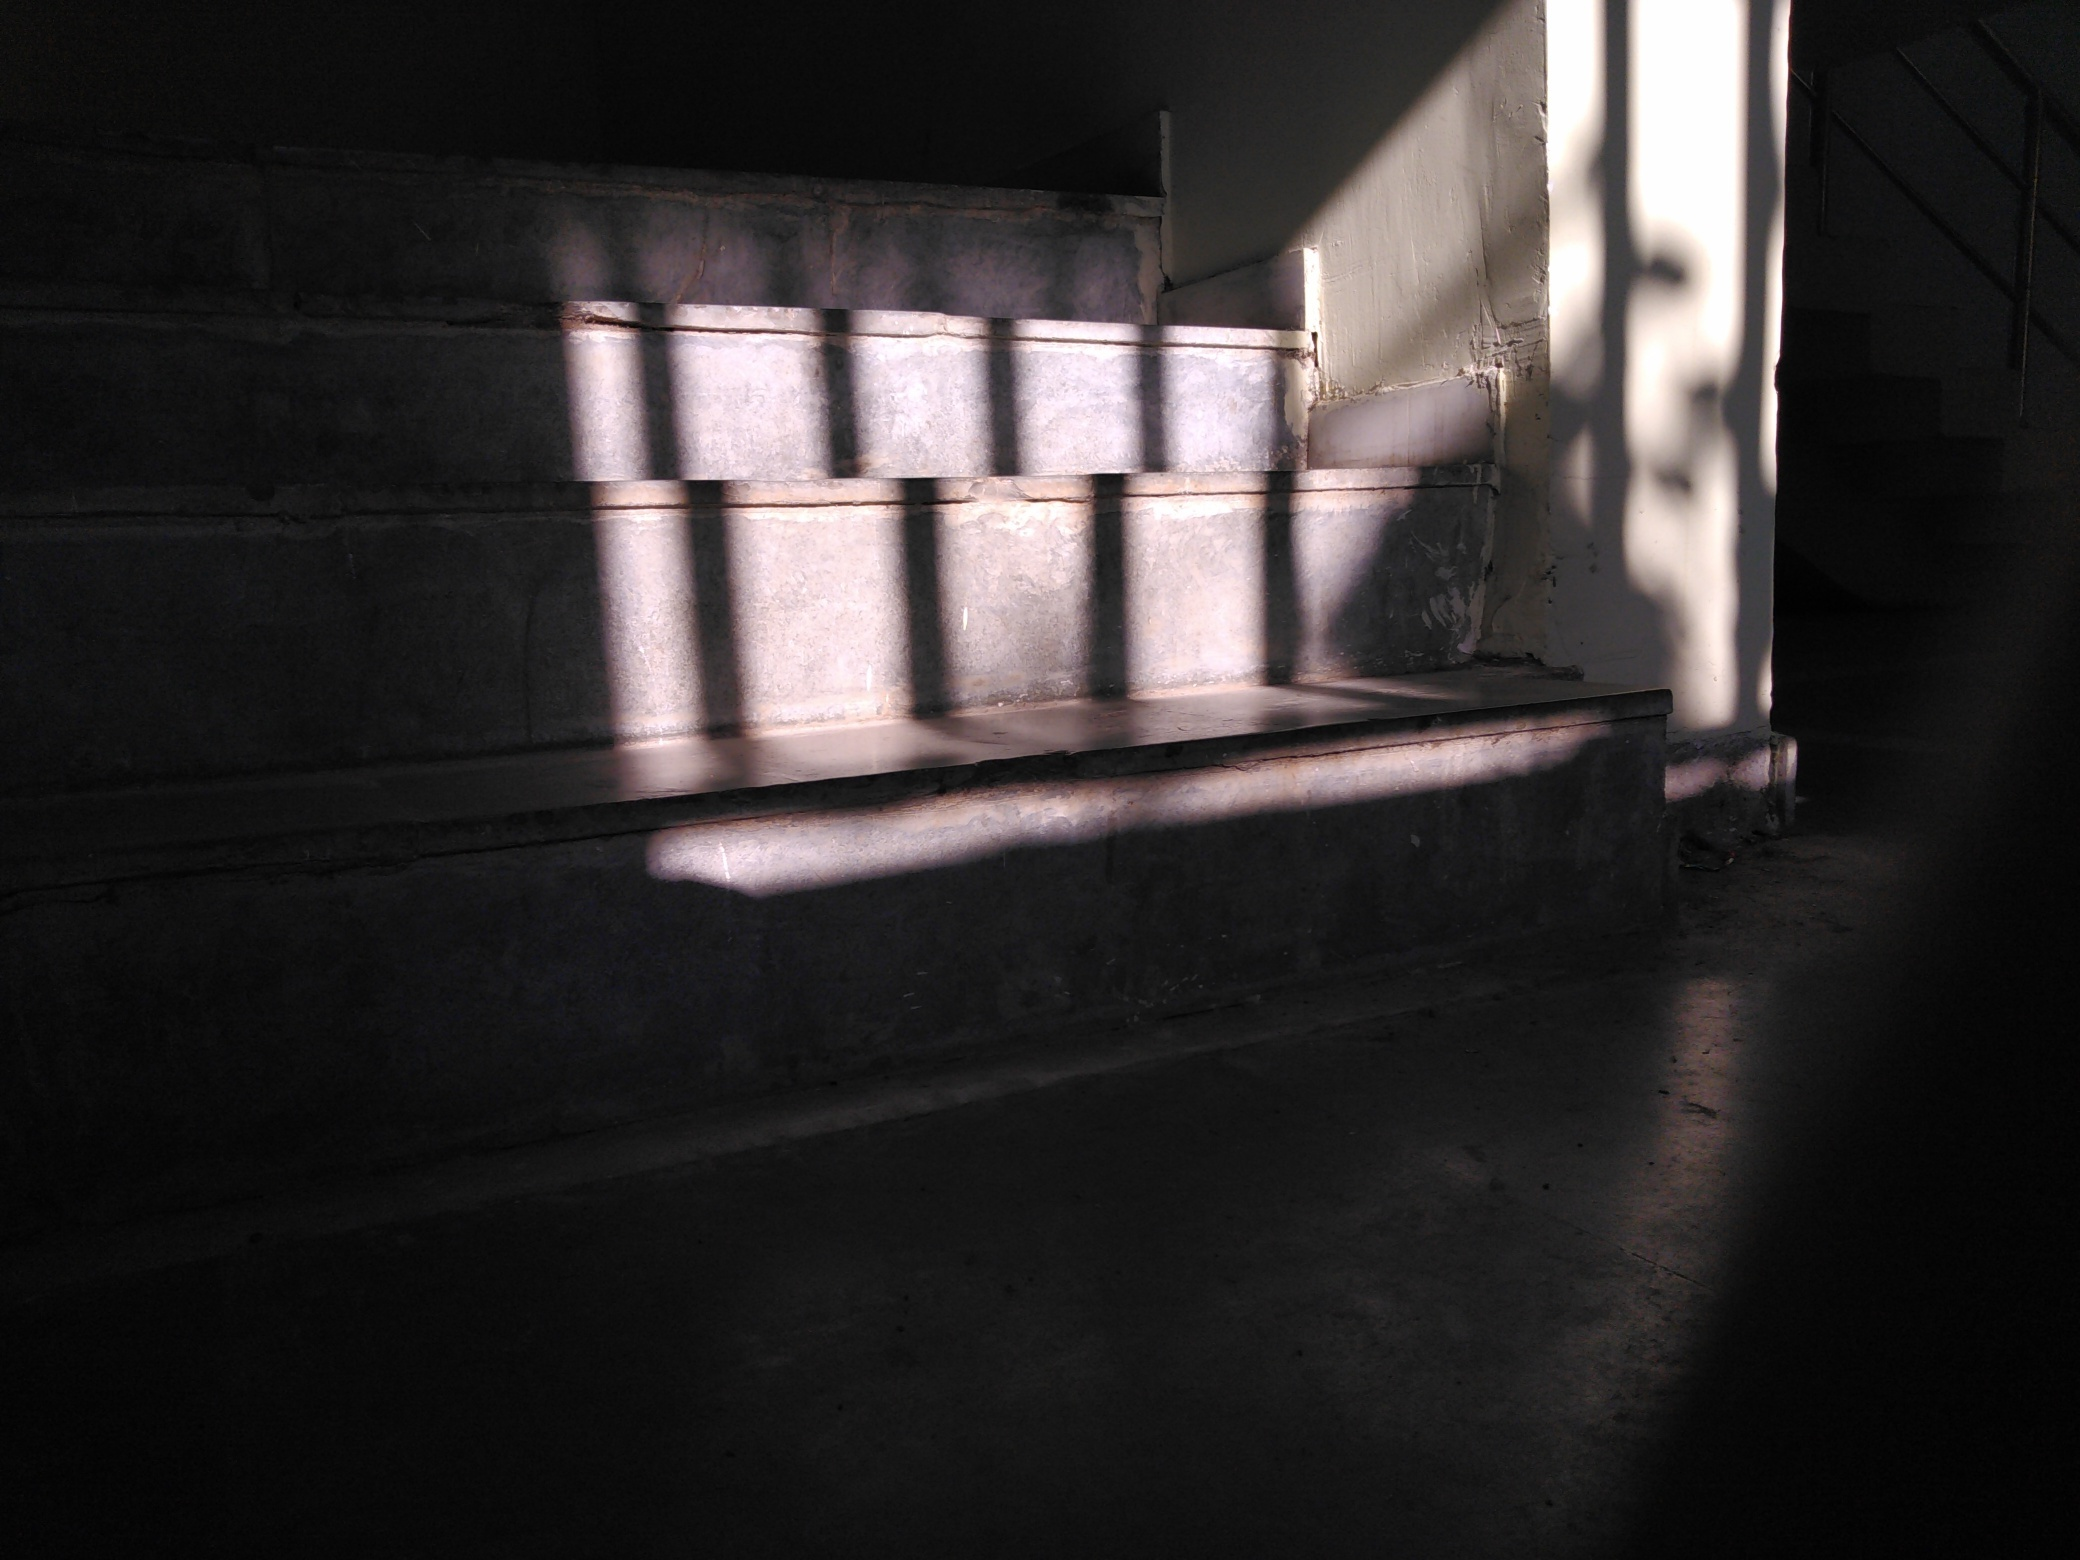stairs_up: (26, 131, 1661, 1042)
